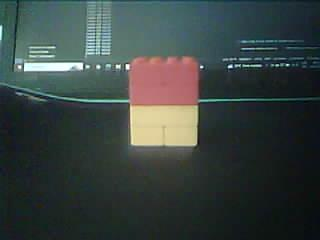lego: (129, 55, 200, 147)
